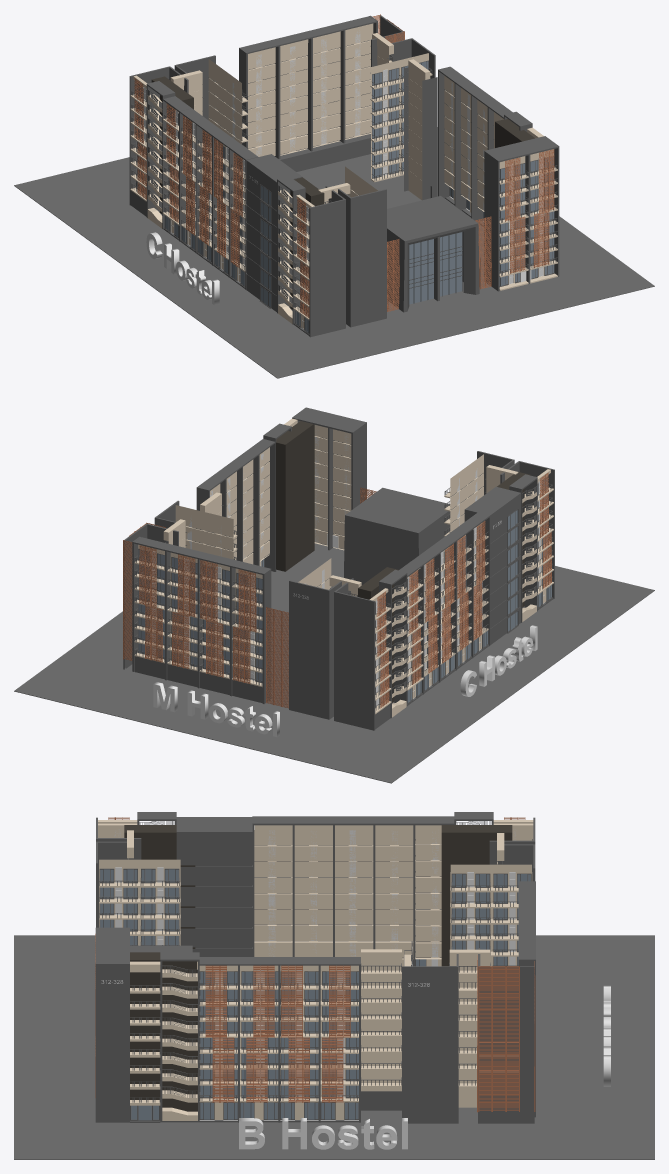
Rendered from ohostel.glb.
3 renders of one model, top to bottom at view 1: azimuth 30°, elevation 25°; view 2: azimuth 150°, elevation 25°; view 3: azimuth 270°, elevation 25°, orthographic. The views are drawn at different scales.
Parts seen in each view (by area): view 1: Plane.025, Cube.139, Cube.124, Cube.125, Cube.137, Cube.013, Cube.003, Cube.102, Cube.103, Plane.316, Cube.042, Cube.070 (+49 smaller); view 2: Plane.025, Cube.139, Cube.082, Cube.083, Cube.060, Cube.067, Cube.068, Cube.137, Text.001, Cube.066, Cube.143, Cube.103 (+34 smaller); view 3: Plane.025, Cube.137, Cube.046, Cube.006, Cube.003, Cube.060, Cube.005, Cube.057, Cube.004, Cube.110, Text, Plane.314 (+54 smaller).
Part boxes in pixels (left/top/right/bottom): Plane.025: left=14, top=127, right=654, bottom=378; Cube.139: left=387, top=196, right=479, bottom=312; Cube.124: left=338, top=189, right=386, bottom=327; Cube.125: left=309, top=186, right=345, bottom=337; Cube.137: left=246, top=154, right=302, bottom=311; Cube.013: left=505, top=149, right=554, bottom=273; Cube.003: left=484, top=136, right=559, bottom=291; Cube.102: left=214, top=138, right=242, bottom=268; Cube.103: left=183, top=115, right=211, bottom=245; Plane.316: left=422, top=77, right=437, bottom=200; Cube.042: left=438, top=66, right=512, bottom=198; Cube.070: left=279, top=134, right=370, bottom=171; Plane.025: left=14, top=543, right=654, bottom=783; Cube.139: left=344, top=487, right=450, bottom=584; Cube.082: left=289, top=580, right=341, bottom=719; Cube.083: left=334, top=578, right=375, bottom=730; Cube.060: left=276, top=421, right=314, bottom=571; Cube.067: left=200, top=560, right=256, bottom=684; Cube.068: left=139, top=545, right=195, bottom=669; Cube.137: left=464, top=487, right=520, bottom=644; Text.001: left=153, top=682, right=279, bottom=736; Cube.066: left=134, top=537, right=271, bottom=703; Cube.143: left=266, top=607, right=288, bottom=708; Cube.103: left=425, top=543, right=454, bottom=673; Plane.025: left=14, top=935, right=654, bottom=1159; Cube.137: left=176, top=817, right=252, bottom=956; Cube.046: left=402, top=954, right=458, bottom=1123; Cube.006: left=478, top=948, right=534, bottom=1123; Cube.003: left=95, top=927, right=129, bottom=1122; Cube.060: left=130, top=952, right=197, bottom=1111; Cube.005: left=205, top=965, right=274, bottom=1102; Cube.057: left=478, top=966, right=519, bottom=1111; Cube.004: left=281, top=965, right=350, bottom=1102; Cube.110: left=441, top=825, right=512, bottom=966; Text: left=239, top=1118, right=407, bottom=1149; Plane.314: left=361, top=963, right=401, bottom=1082.
Bounding box in the file's own units: 57.45 × 19.67 × 69.46.
